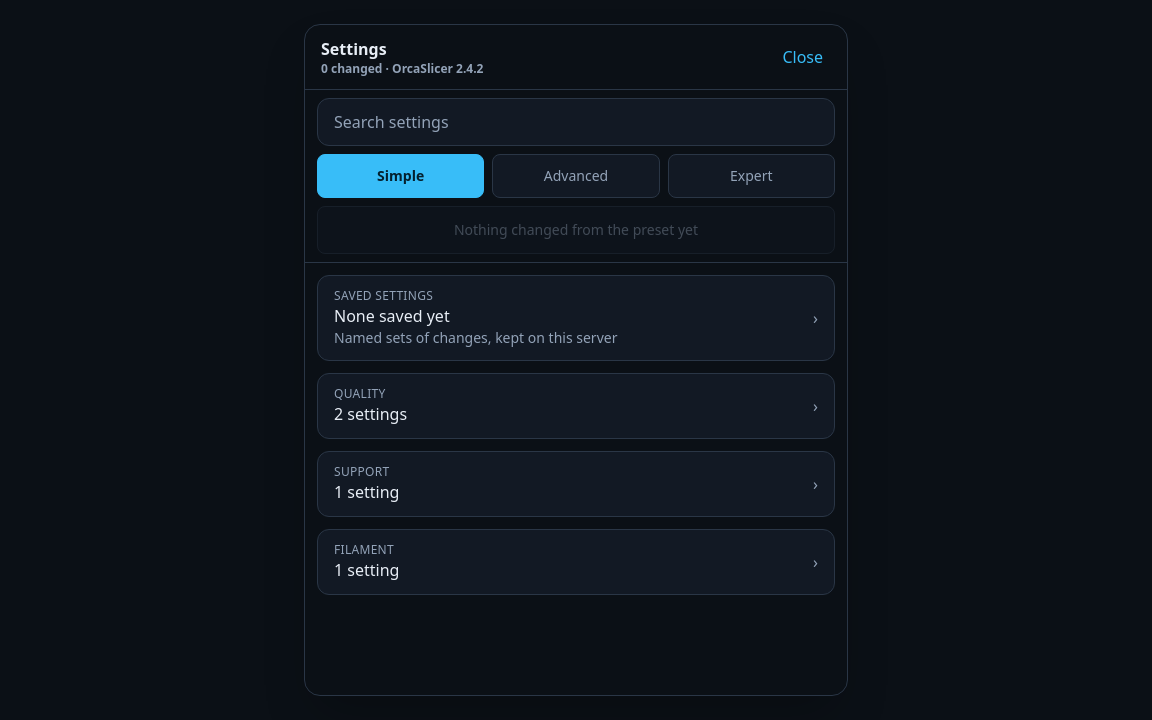
Test case: the settings sheet › renders a per-extruder vector as one field per element
Later steps or results of the test are not shown.
Type "nozzle temp" into the search field with test id "settings-search".
click(576, 122); type("nozzle temp")  # box [317, 98, 835, 146]
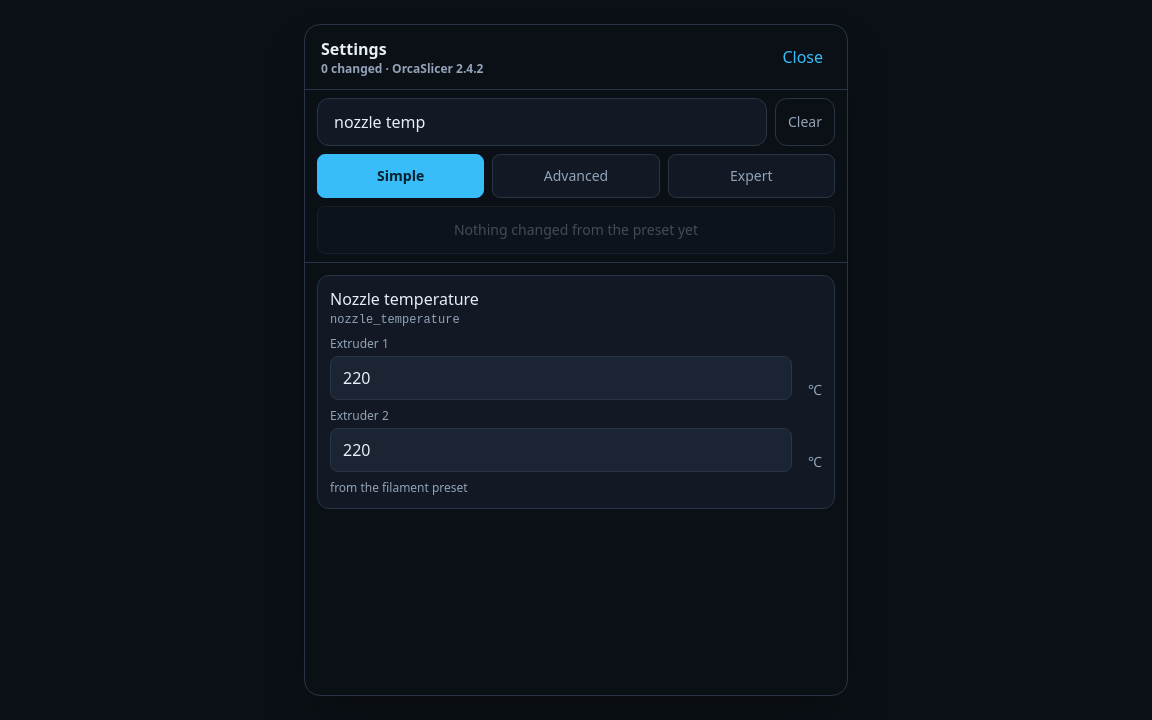
expect the text "Extruder 1" is shown: met, box [330, 335, 389, 352]
expect the text "Extruder 2" is shown: met, box [330, 407, 389, 424]
